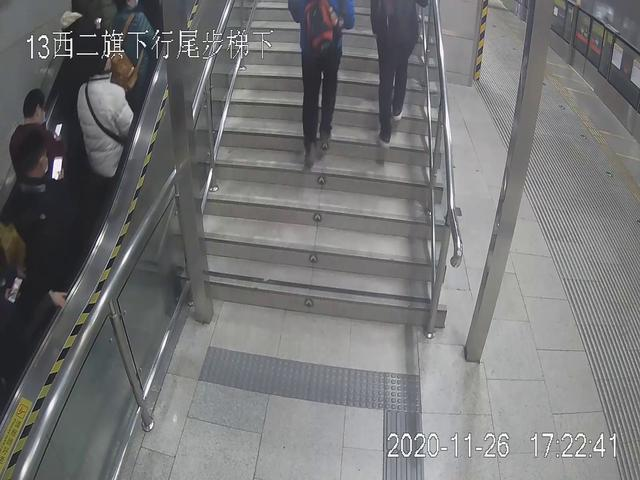person: (284, 1, 359, 167), (74, 50, 147, 198), (368, 2, 437, 155)
